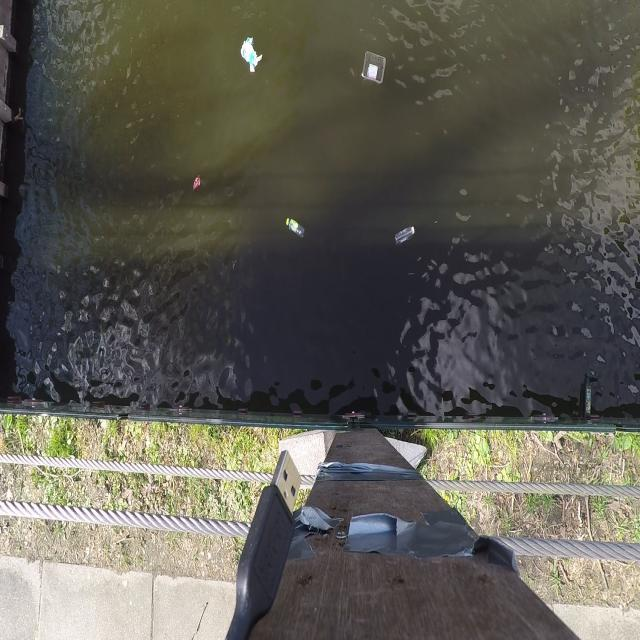Autre plastique: (354, 44, 392, 86)
Bouteille plastique: (282, 211, 310, 243), (392, 222, 420, 253)
Sac plastique: (235, 30, 265, 79)
